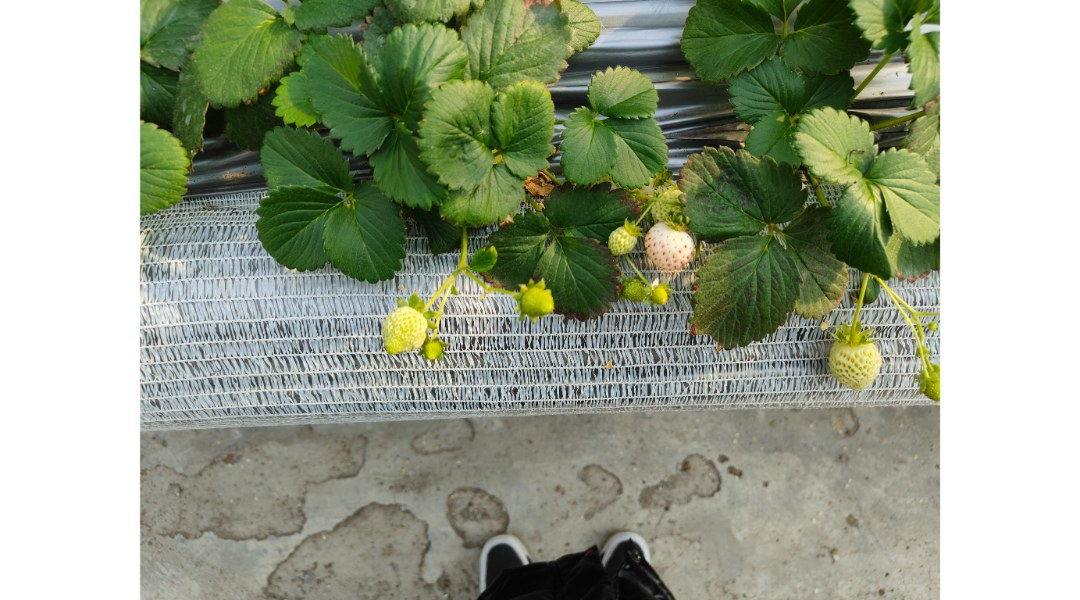berry: (823, 319, 879, 405), (647, 219, 696, 293), (373, 297, 428, 358), (912, 349, 953, 416), (515, 276, 563, 327), (608, 216, 636, 260), (646, 274, 678, 309), (612, 276, 648, 304), (420, 338, 450, 364)
strain: (848, 284, 876, 342), (414, 273, 451, 314), (433, 285, 457, 331), (623, 251, 648, 285), (458, 220, 472, 269)
